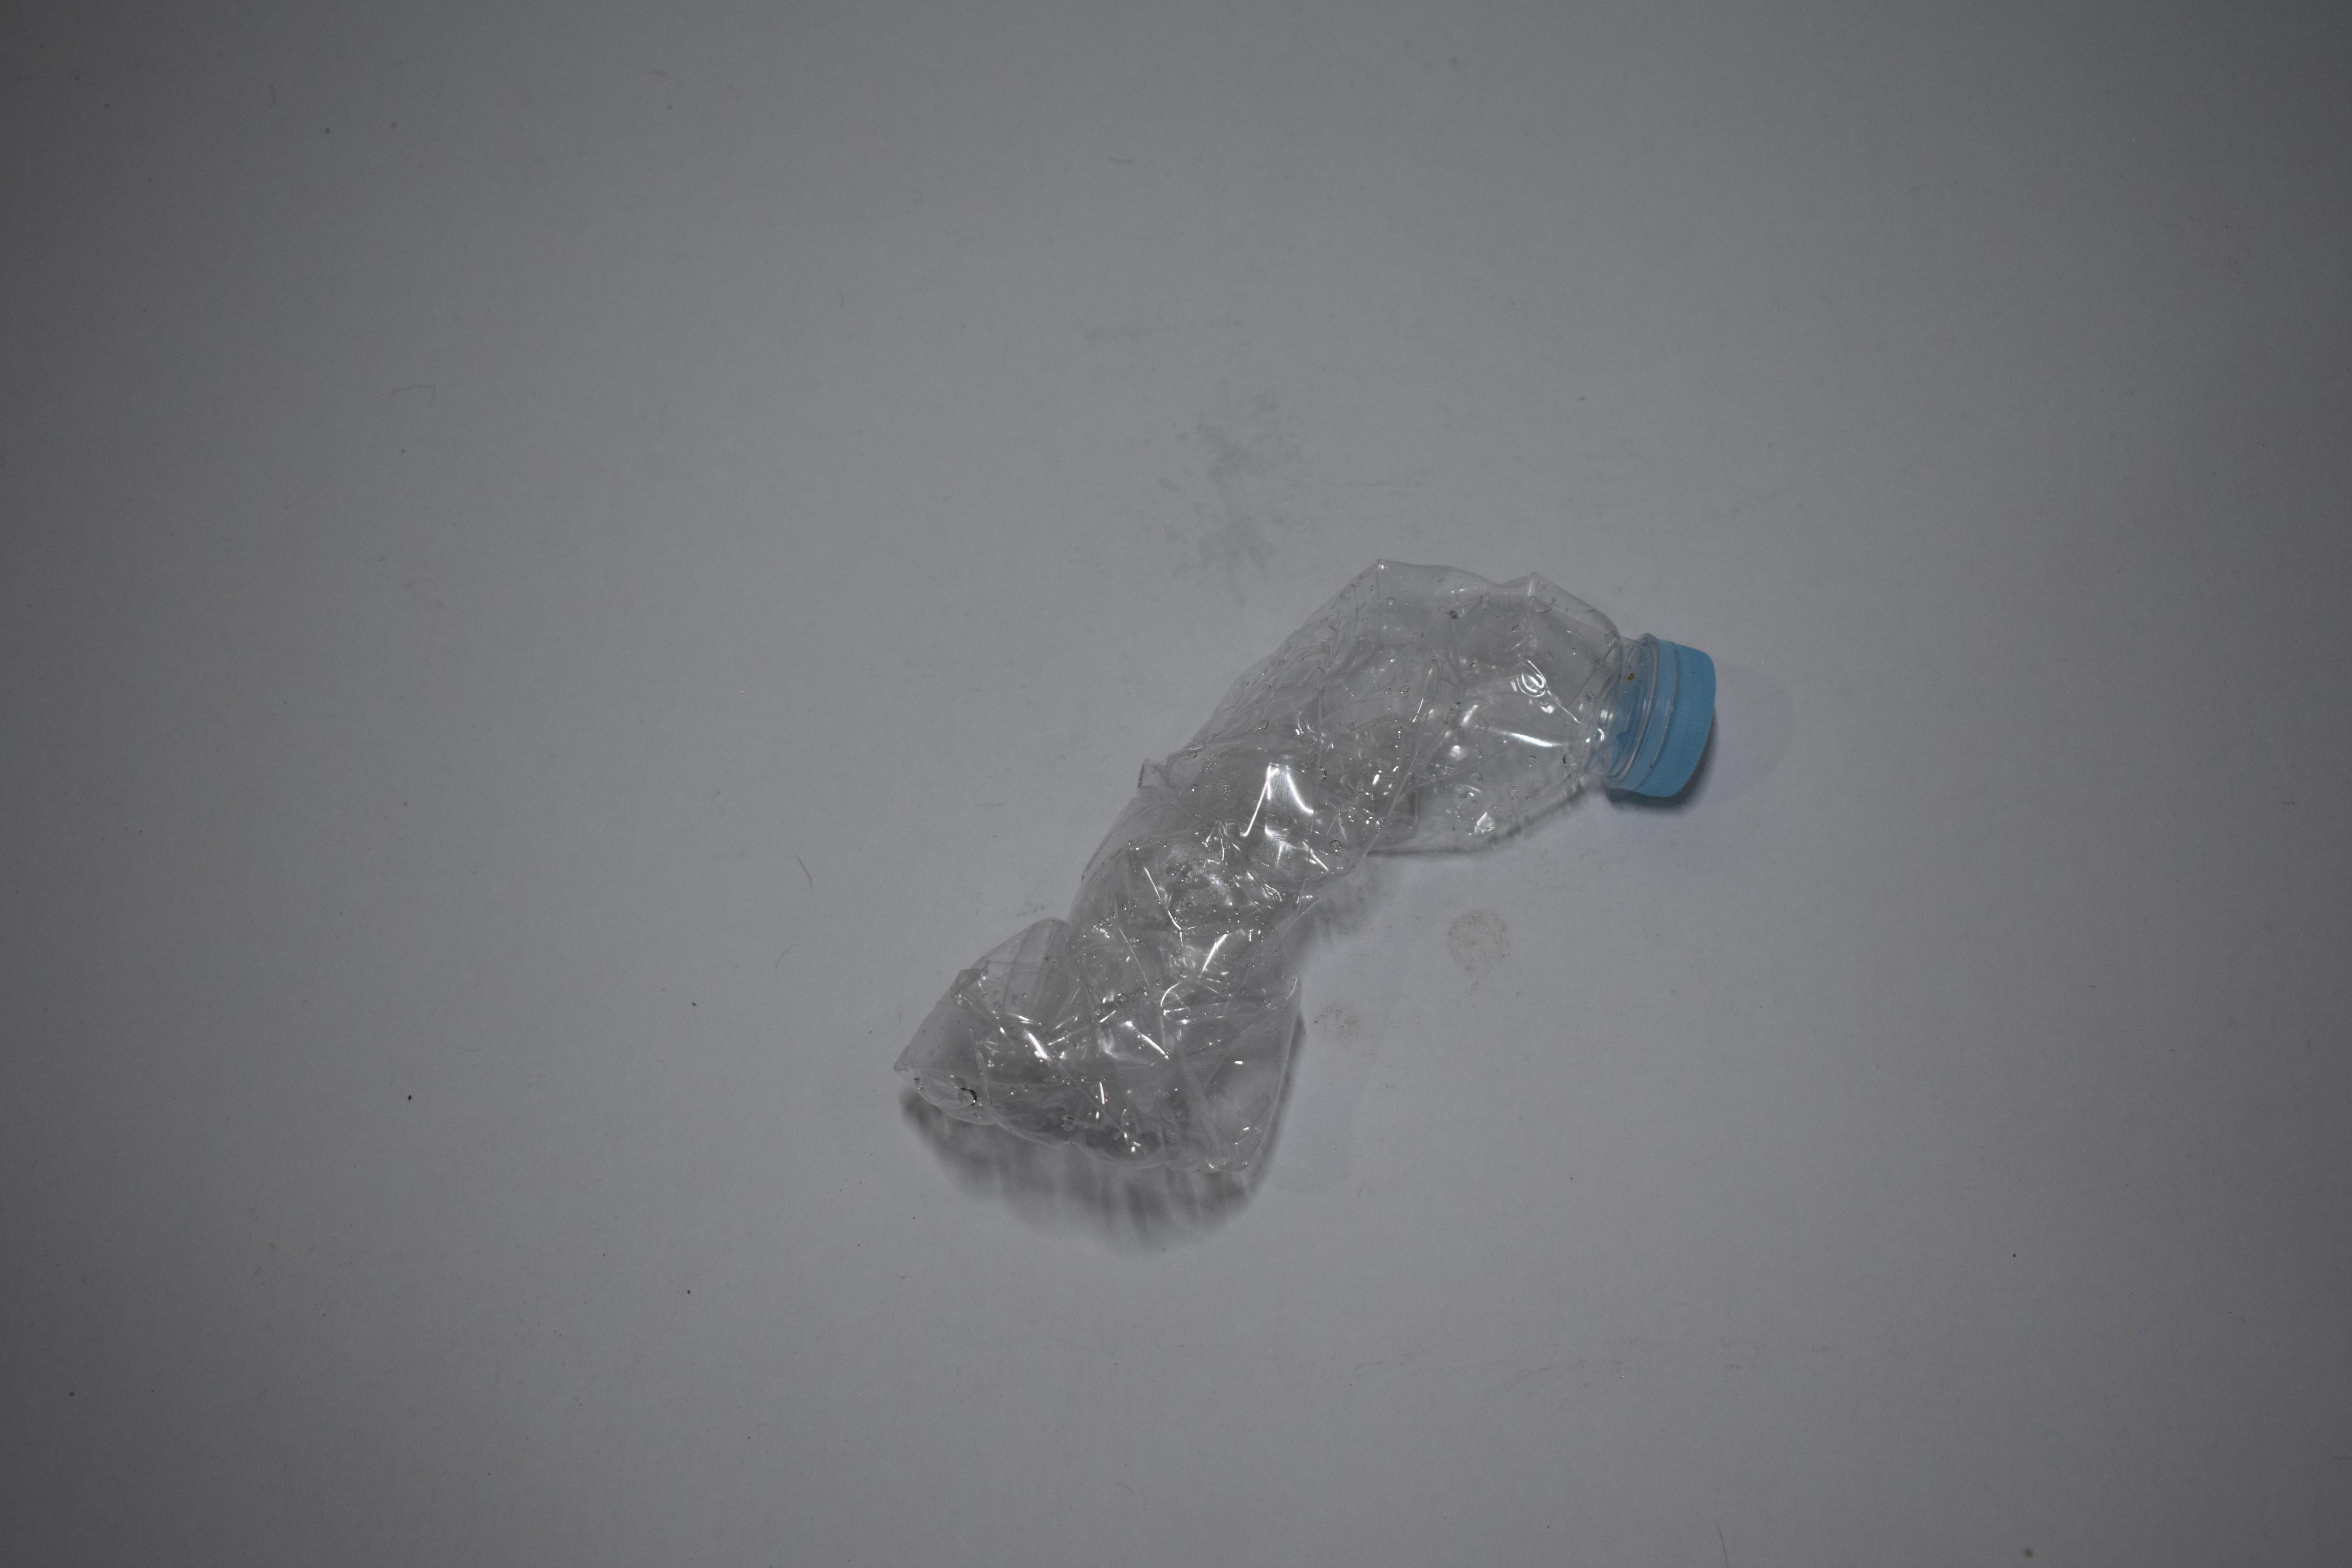bottle: (0, 0, 361, 325)
